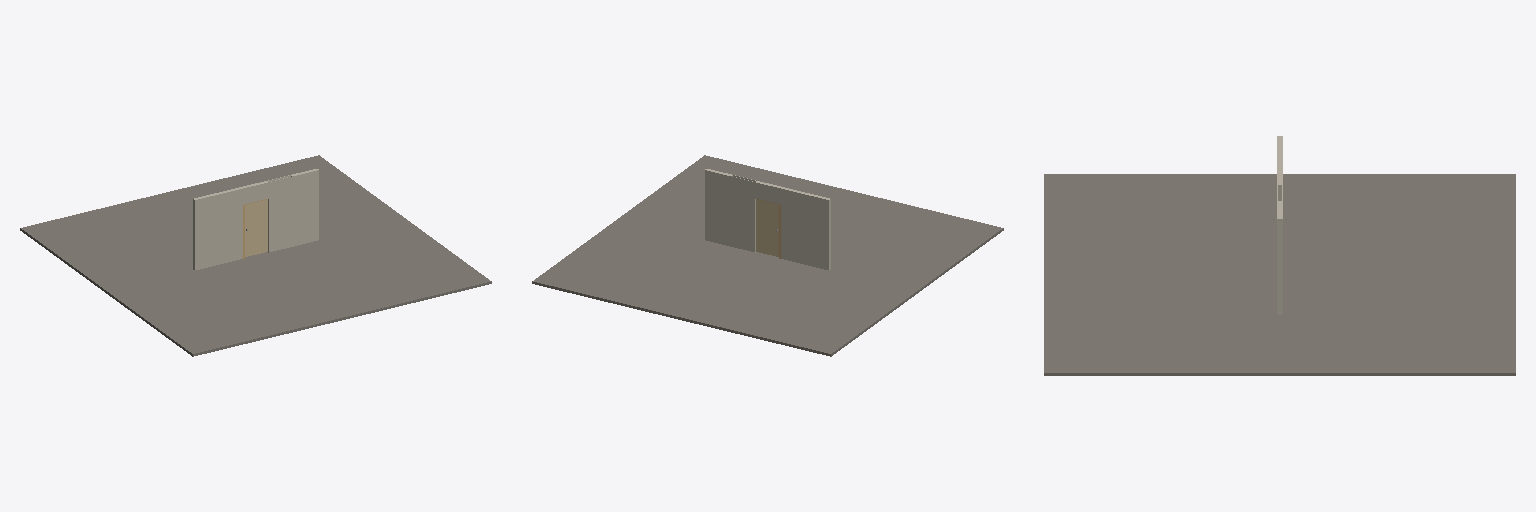
The robot description file, URDF, robot "db0107_sliding_single_simple":
<?xml version="1.0" ?>
<robot xmlns:doorbench="https://github.com/adamraudonis/DoorBench/schema/urdf-ext" name="db0107_sliding_single_simple">
  <link name="world_env">
    <visual name="floor_vis">
      <origin xyz="0 0 -0.05" rpy="0 0 0"/>
      <geometry>
        <box size="12 12 0.1"/>
      </geometry>
      <material name="mat_floor"/>
    </visual>
    <collision name="floor_col">
      <origin xyz="0 0 -0.05" rpy="0 0 0"/>
      <geometry>
        <box size="12 12 0.1"/>
      </geometry>
    </collision>
    <visual name="wall_left_vis">
      <origin xyz="-1.523 0 1.35" rpy="0 0 0"/>
      <geometry>
        <box size="1.954 0.145 2.7"/>
      </geometry>
      <material name="mat_wall"/>
    </visual>
    <collision name="wall_left_col">
      <origin xyz="-1.523 0 1.35" rpy="0 0 0"/>
      <geometry>
        <box size="1.954 0.145 2.7"/>
      </geometry>
    </collision>
    <visual name="wall_header_vis">
      <origin xyz="-0.03 0 2.3855" rpy="0 0 0"/>
      <geometry>
        <box size="1.032 0.145 0.629"/>
      </geometry>
      <material name="mat_wall"/>
    </visual>
    <collision name="wall_header_col">
      <origin xyz="-0.03 0 2.3855" rpy="0 0 0"/>
      <geometry>
        <box size="1.032 0.145 0.629"/>
      </geometry>
    </collision>
    <visual name="pocket_skin_n_vis">
      <origin xyz="0.949 -0.0645 1.35" rpy="0 0 0"/>
      <geometry>
        <box size="0.964 0.016 2.7"/>
      </geometry>
      <material name="mat_wall"/>
    </visual>
    <collision name="pocket_skin_n_col">
      <origin xyz="0.949 -0.0645 1.35" rpy="0 0 0"/>
      <geometry>
        <box size="0.964 0.016 2.7"/>
      </geometry>
    </collision>
    <visual name="pocket_skin_p_vis">
      <origin xyz="0.949 0.0645 1.35" rpy="0 0 0"/>
      <geometry>
        <box size="0.964 0.016 2.7"/>
      </geometry>
      <material name="mat_wall"/>
    </visual>
    <collision name="pocket_skin_p_col">
      <origin xyz="0.949 0.0645 1.35" rpy="0 0 0"/>
      <geometry>
        <box size="0.964 0.016 2.7"/>
      </geometry>
    </collision>
    <visual name="wall_pocket_far_vis">
      <origin xyz="1.9655 0 1.35" rpy="0 0 0"/>
      <geometry>
        <box size="1.069 0.145 2.7"/>
      </geometry>
      <material name="mat_wall"/>
    </visual>
    <collision name="wall_pocket_far_col">
      <origin xyz="1.9655 0 1.35" rpy="0 0 0"/>
      <geometry>
        <box size="1.069 0.145 2.7"/>
      </geometry>
    </collision>
    <visual name="jamb_head_vis">
      <origin xyz="0 0 2.0615" rpy="0 0 0"/>
      <geometry>
        <box size="0.972 0.145 0.019"/>
      </geometry>
      <material name="mat_frame"/>
    </visual>
    <collision name="jamb_head_col">
      <origin xyz="0 0 2.0615" rpy="0 0 0"/>
      <geometry>
        <box size="0.972 0.145 0.019"/>
      </geometry>
    </collision>
    <visual name="track_header_vis">
      <origin xyz="0.434 0 2.111" rpy="0 0 0"/>
      <geometry>
        <box size="1.882 0.05 0.08"/>
      </geometry>
      <material name="mat_track"/>
    </visual>
    <collision name="track_header_col">
      <origin xyz="0.434 0 2.111" rpy="0 0 0"/>
      <geometry>
        <box size="1.882 0.05 0.08"/>
      </geometry>
    </collision>
    <visual name="jamb_latch_0_vis">
      <origin xyz="-0.5065 0 1.026" rpy="0 0 0"/>
      <geometry>
        <box size="0.079 0.145 2.052"/>
      </geometry>
      <material name="mat_frame"/>
    </visual>
    <collision name="jamb_latch_0_col">
      <origin xyz="-0.5065 0 1.026" rpy="0 0 0"/>
      <geometry>
        <box size="0.079 0.145 2.052"/>
      </geometry>
    </collision>
    <visual name="track_header_bracket_vis">
      <origin xyz="0.434 0.04075 2.111" rpy="0 0 0"/>
      <geometry>
        <box size="1.5056 0.0325 0.064"/>
      </geometry>
      <material name="mat_hook"/>
    </visual>
  </link>
  <link name="leaf">
    <inertial>
      <origin xyz="-0.000086 0 1.028005" rpy="0 0 0"/>
      <mass value="43.046711"/>
      <inertia ixx="14.812695732" ixy="0" ixz="0.000081079" iyy="17.805708745" iyz="0" izz="3.001806177"/>
    </inertial>
    <visual name="leaf_slab_vis">
      <origin xyz="0 0 1.028" rpy="0 0 0"/>
      <geometry>
        <box size="0.914 0.035 2.032"/>
      </geometry>
      <material name="mat_leaf"/>
    </visual>
    <collision name="leaf_slab_col">
      <origin xyz="0 0 1.028" rpy="0 0 0"/>
      <geometry>
        <box size="0.914 0.035 2.032"/>
      </geometry>
    </collision>
    <visual name="leaf_pull_n_vis">
      <origin xyz="-0.367 -0.018 1.05" rpy="0 0 0"/>
      <geometry>
        <box size="0.05 0.001 0.1"/>
      </geometry>
      <material name="mat_op_nickel_satin"/>
    </visual>
    <visual name="leaf_pull_p_vis">
      <origin xyz="-0.367 0.018 1.05" rpy="0 0 0"/>
      <geometry>
        <box size="0.05 0.001 0.1"/>
      </geometry>
      <material name="mat_op_nickel_satin"/>
    </visual>
  </link>
  <joint name="leaf_slide" type="prismatic">
    <origin xyz="0 0 0" rpy="0 0 0"/>
    <parent link="world_env"/>
    <child link="leaf"/>
    <axis xyz="1 0 0"/>
    <limit lower="0" upper="0.868" effort="5000" velocity="10"/>
    <dynamics damping="4.152336" friction="12.664321"/>
  </joint>
  <material name="mat_floor">
    <color rgba="0.55 0.53 0.5 1"/>
  </material>
  <material name="mat_frame">
    <color rgba="0.82 0.7 0.5 1"/>
  </material>
  <material name="mat_hook">
    <color rgba="0.75 0.76 0.77 1"/>
  </material>
  <material name="mat_leaf">
    <color rgba="0.82 0.75 0.62 1"/>
  </material>
  <material name="mat_op_nickel_satin">
    <color rgba="0.72 0.7 0.66 1"/>
  </material>
  <material name="mat_track">
    <color rgba="0.8 0.81 0.83 1"/>
  </material>
  <material name="mat_wall">
    <color rgba="0.78 0.76 0.7 1"/>
  </material>
</robot>

--- What the picture shows (computed from the rendered views, not written in the file) ---
Views: 3 orthographic renders of the robot side by side, from view 1: azimuth 30°, elevation 25°; view 2: azimuth 150°, elevation 25°; view 3: azimuth 270°, elevation 25°.
Model db0107_sliding_single_simple with 2 links and 1 joints (1 prismatic), rooted at world_env, posed all joints at 0.
Links seen in each view (by area): view 1: world_env, leaf; view 2: world_env, leaf; view 3: world_env.
Link boxes in pixels (bbox=[...]): world_env: bbox=[20, 155, 491, 356]; leaf: bbox=[245, 199, 267, 256]; world_env: bbox=[532, 155, 1003, 356]; leaf: bbox=[756, 199, 778, 256]; world_env: bbox=[1044, 136, 1515, 375].
Bounding box of the posed robot: 12 × 12 × 2.8 m (x, y, z).
Geometry: primitives only (box / cylinder / sphere), no mesh files.
